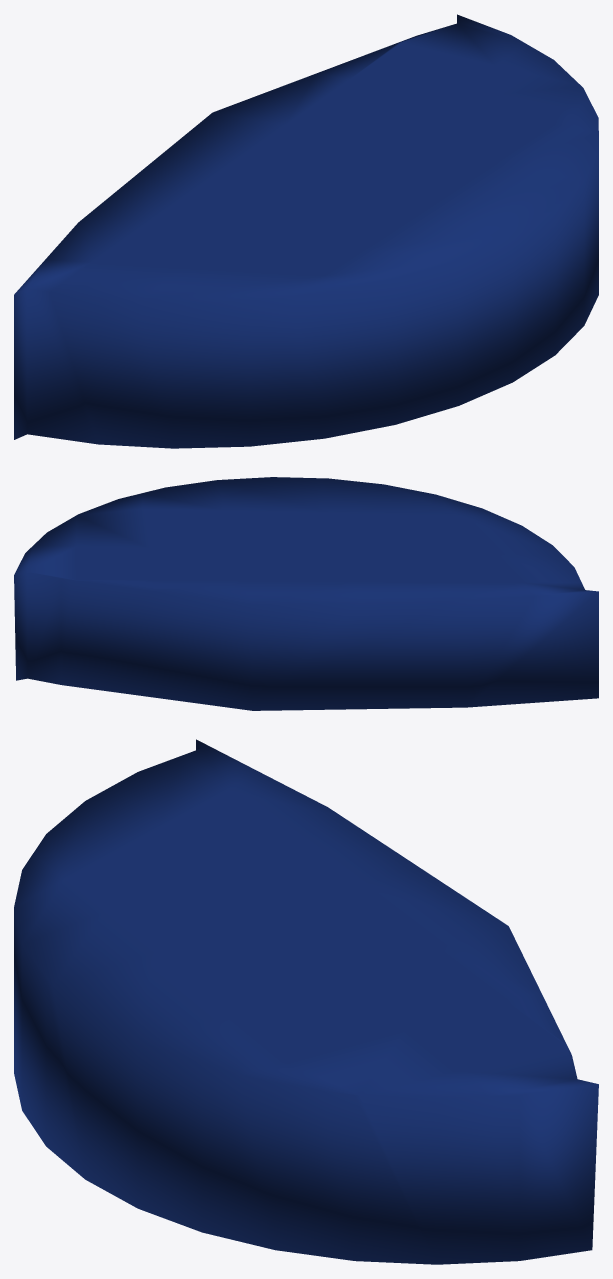
File: smallwatersliced.fbx
The picture shows the model from 3 angles, top to bottom: view 1: azimuth 30°, elevation 25°; view 2: azimuth 150°, elevation 25°; view 3: azimuth 270°, elevation 25°; orthographic projection. The views are drawn at different scales.
Parts seen in each view (by area): view 1: waterSmall; view 2: waterSmall; view 3: waterSmall.
Part boxes in pixels (left/top/right/bottom): waterSmall: left=14, top=14, right=598, bottom=448; waterSmall: left=14, top=477, right=598, bottom=710; waterSmall: left=14, top=739, right=598, bottom=1264.
Size of the model in its own units: 6773 by 1458 by 4657.
